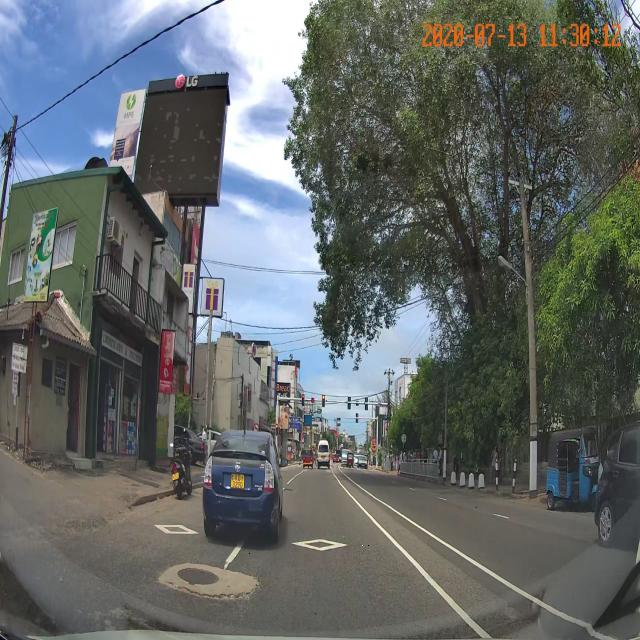diamond: (208, 531, 419, 571)
